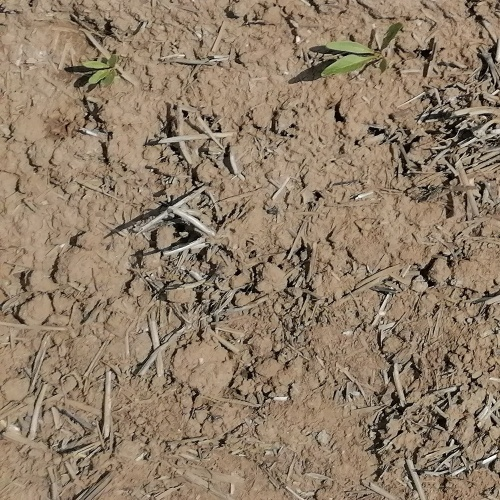beet: (319, 21, 405, 77), (81, 50, 122, 88)
